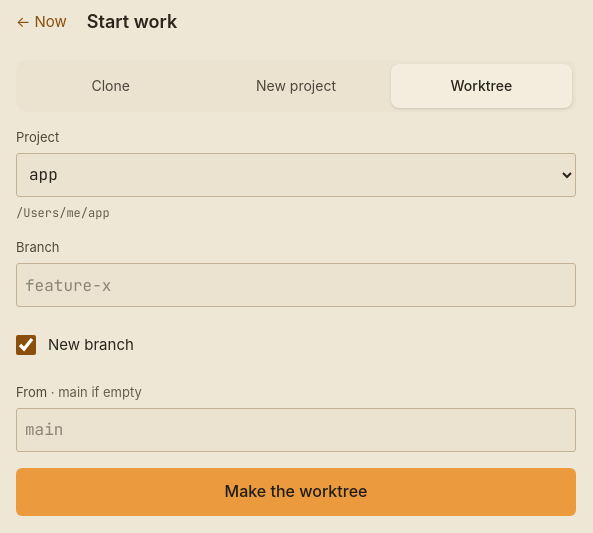
Test: Start work › makes a worktree on a new branch
The width and height of the screenshot is (593, 533).
Type "phone-x" into the field with placeholder "feature-x" at (296, 285), box [16,263,576,307]
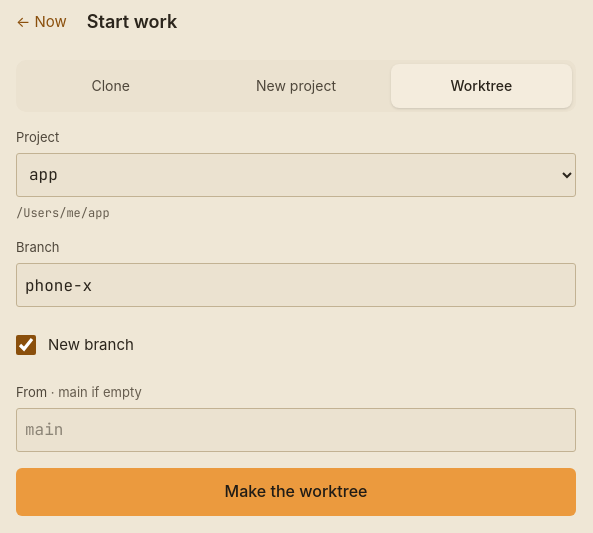
Click the button "Make the worktree" at (296, 492), box [16,468,576,516]
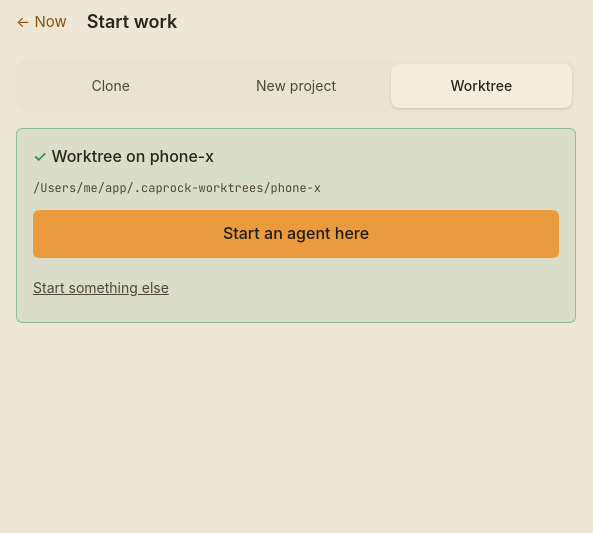
Expected: the text "/Users/me/app/.caprock-worktrees/phone-x" is shown, [33,180,321,196]
